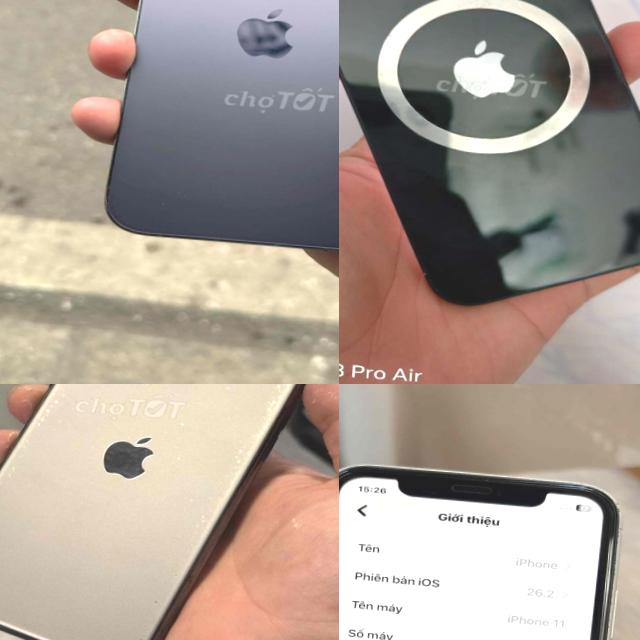gen_11: (0, 384, 336, 640), (339, 450, 627, 640)
gen_12_13: (339, 0, 640, 323)
gen_14: (99, 0, 339, 254)
